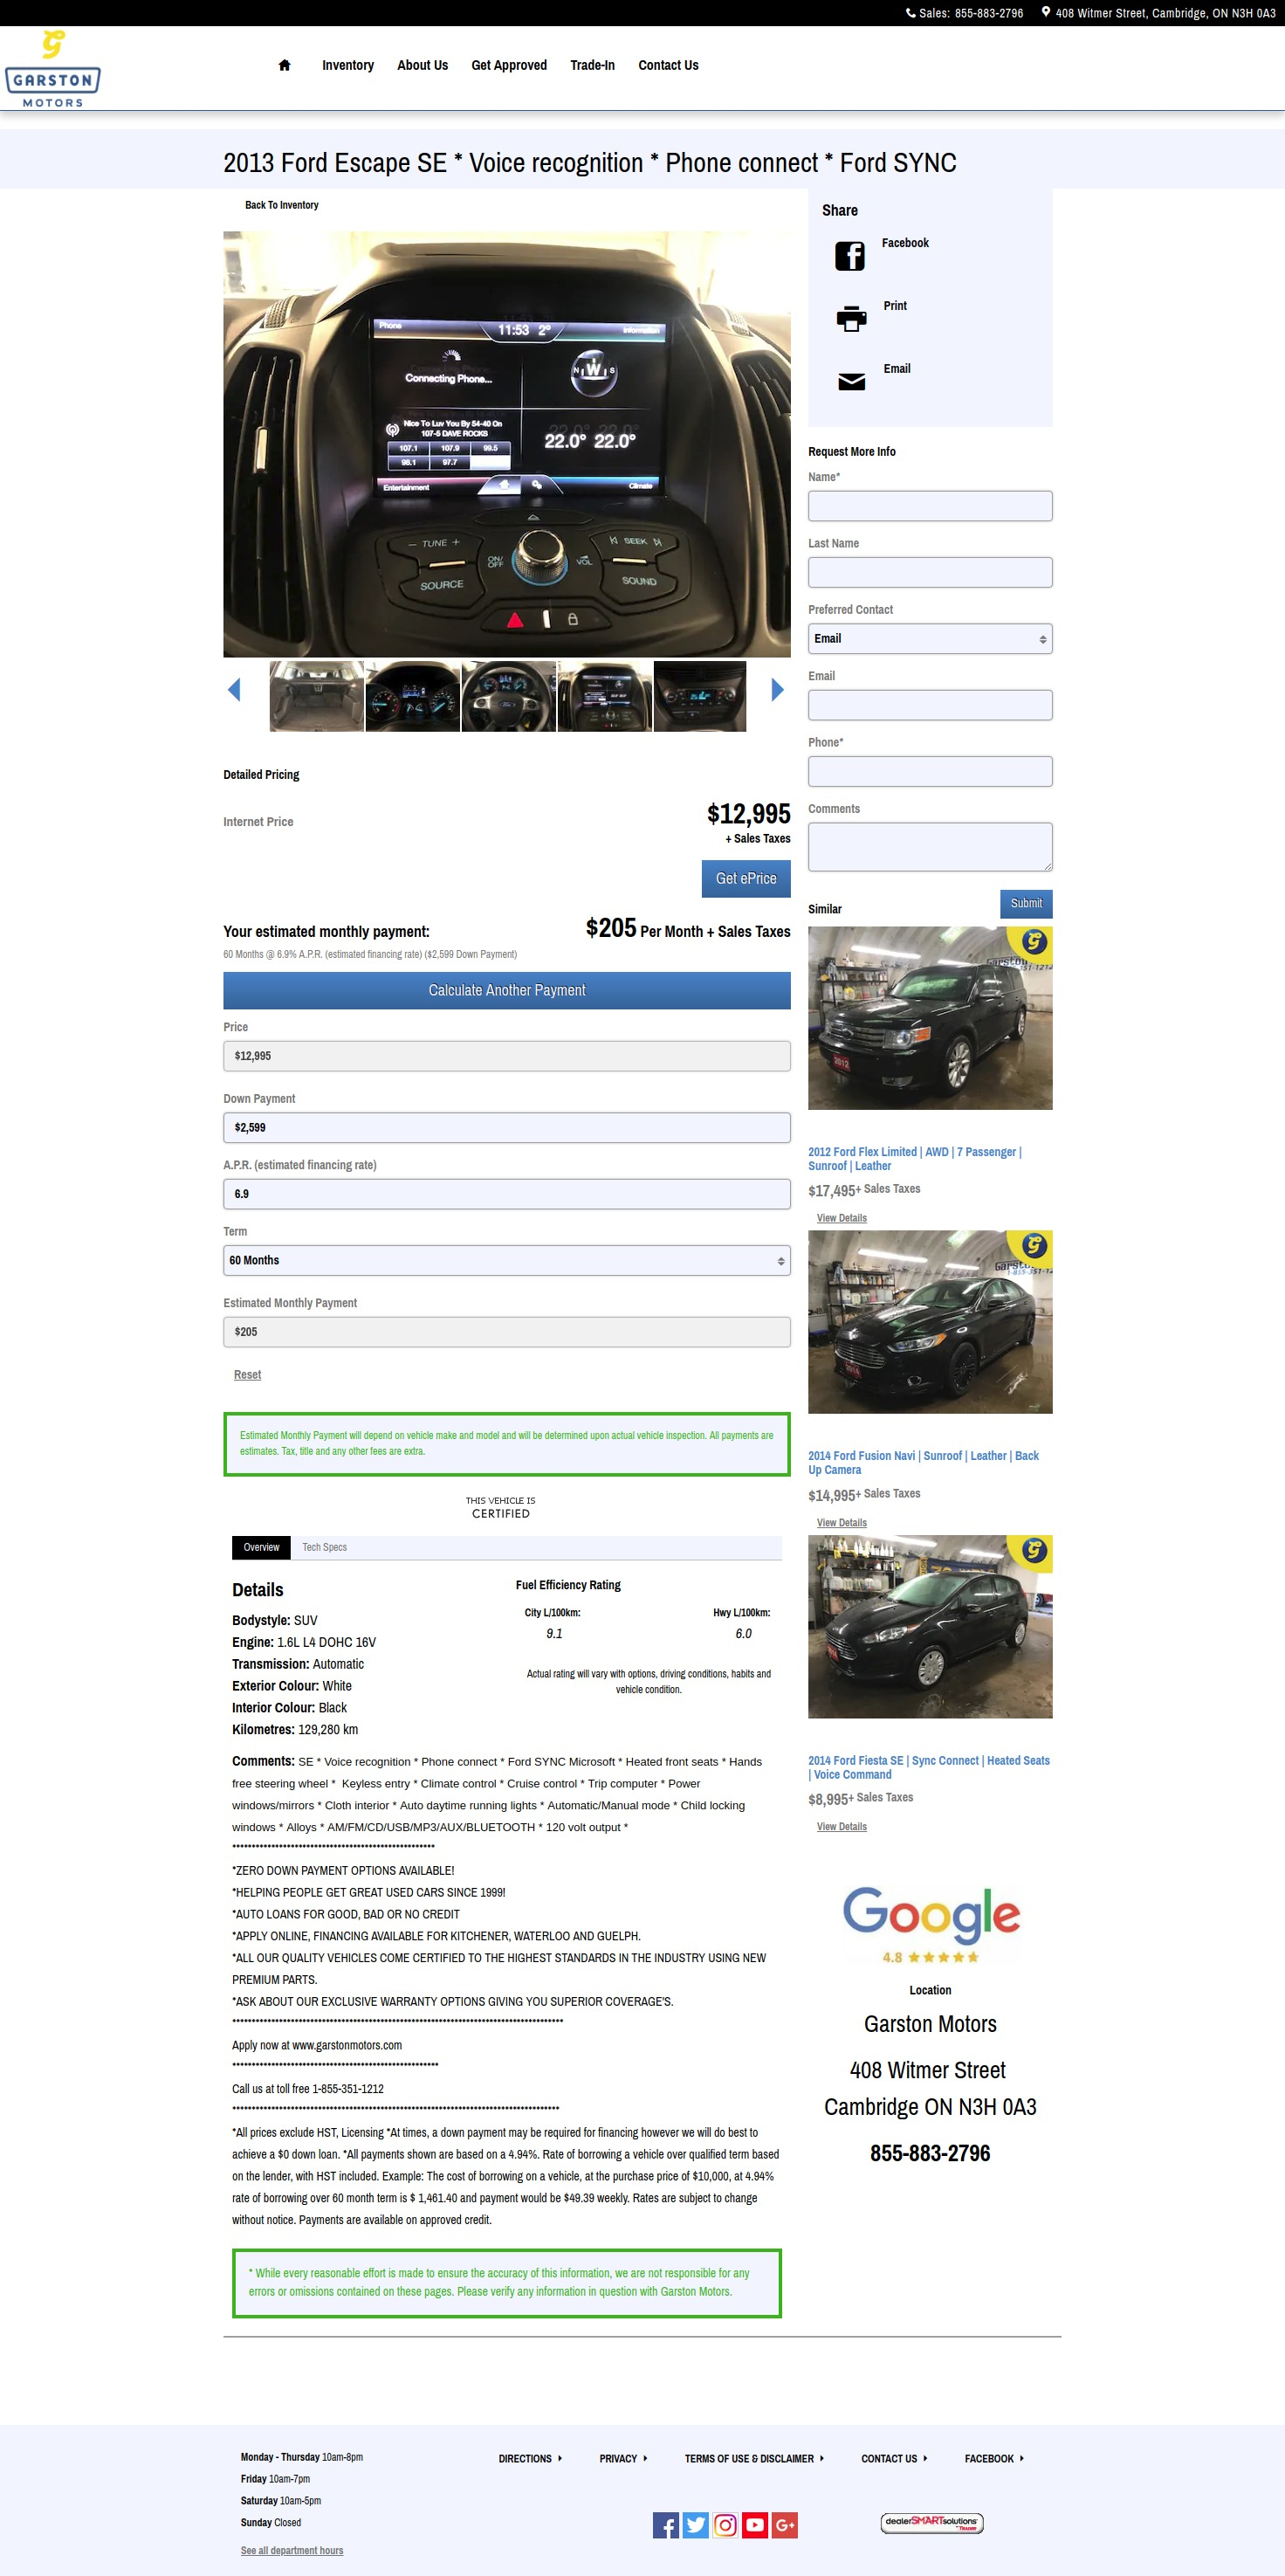car: (772, 677, 785, 703)
